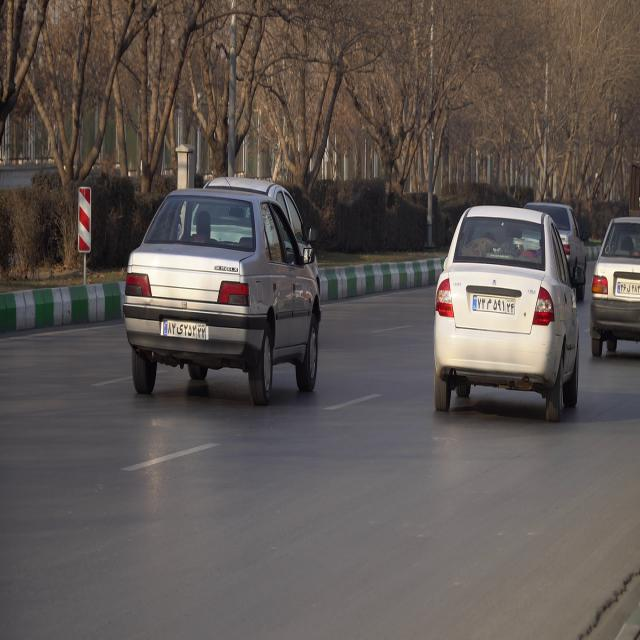car: (125, 184, 322, 402), (431, 203, 583, 409), (592, 218, 640, 356)
